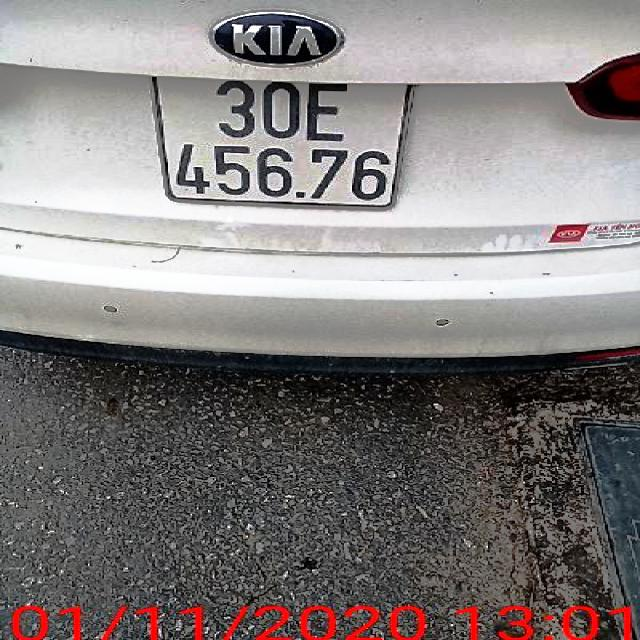license_plate: (157, 73, 413, 209)
